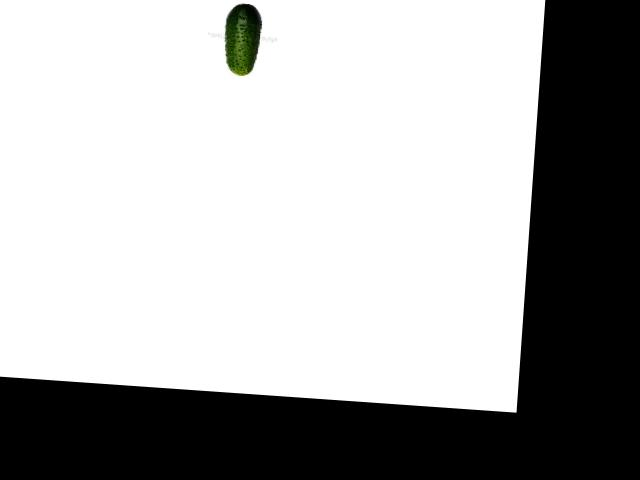cucumber: (221, 1, 262, 77)
